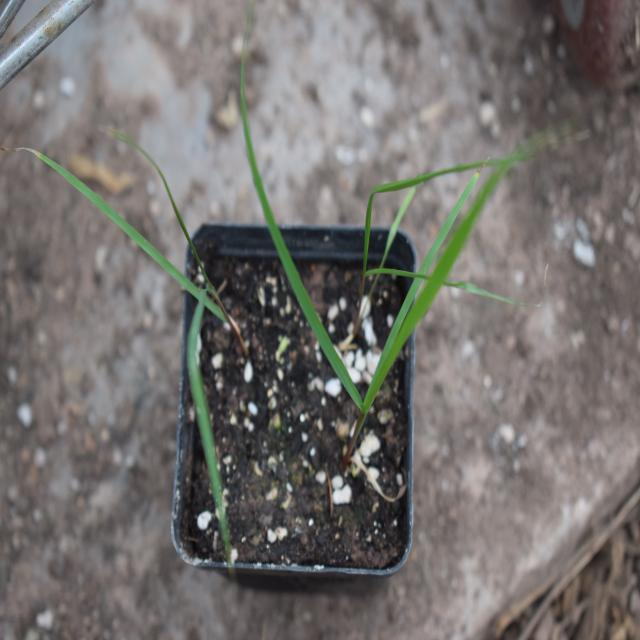green_foxtail: (245, 138, 489, 438), (67, 134, 256, 417)
